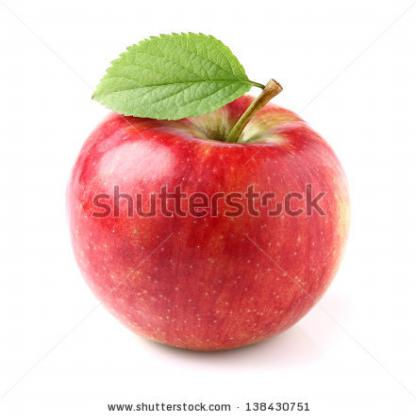apple leaf: (77, 26, 268, 123)
